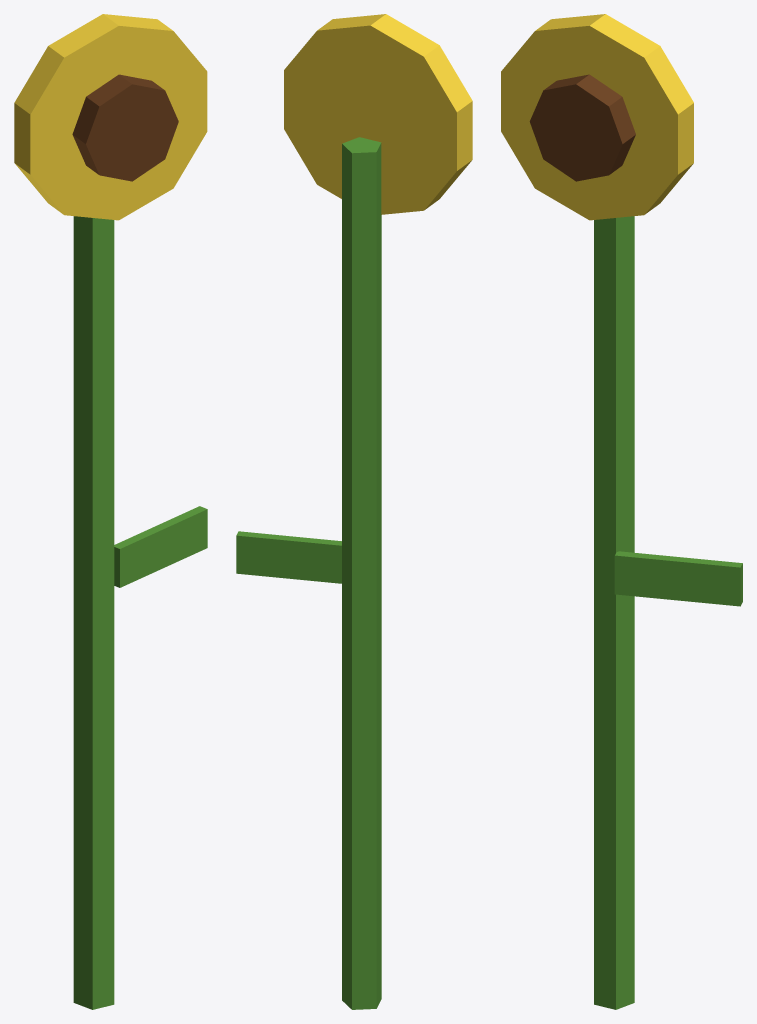
The model's file is garden2_sunflower.glb.
The picture shows the model from 3 angles, left to right: view 1: azimuth 30°, elevation 25°; view 2: azimuth 150°, elevation 25°; view 3: azimuth 330°, elevation 25°; orthographic projection. The views are drawn at different scales.
Visible parts, largest first — view 1: sunflower; view 2: sunflower; view 3: sunflower.
Boxes of the visible parts, box(x1,y1,x2,y2) form: sunflower: box(14, 14, 207, 1009); sunflower: box(236, 14, 472, 1009); sunflower: box(501, 14, 742, 1009).
Size of the model in its own units: 0.2239 by 1.02 by 0.0925.
